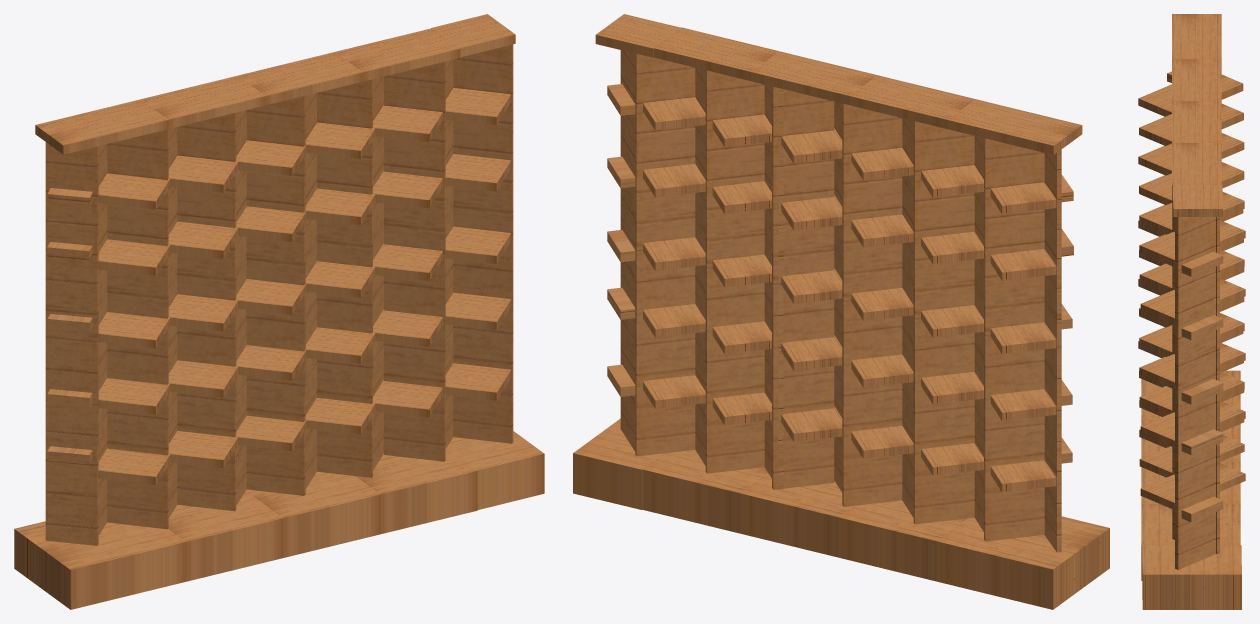
The model's file is Middle_CDshelf.fbx.
3 renders of one model, left to right at view 1: azimuth 30°, elevation 25°; view 2: azimuth 150°, elevation 25°; view 3: azimuth 270°, elevation 25°, orthographic. The views are drawn at different scales.
Parts seen in each view (by area): view 1: Plane.001; view 2: Plane.001; view 3: Plane.001.
Part boxes in pixels (x1,y1,x2,y2): Plane.001: (14, 14, 544, 609); Plane.001: (573, 14, 1109, 609); Plane.001: (1138, 14, 1245, 609).
Bounding box in the file's own units: 976 × 883 × 216.
Materials: 1 (1 with a texture image).
